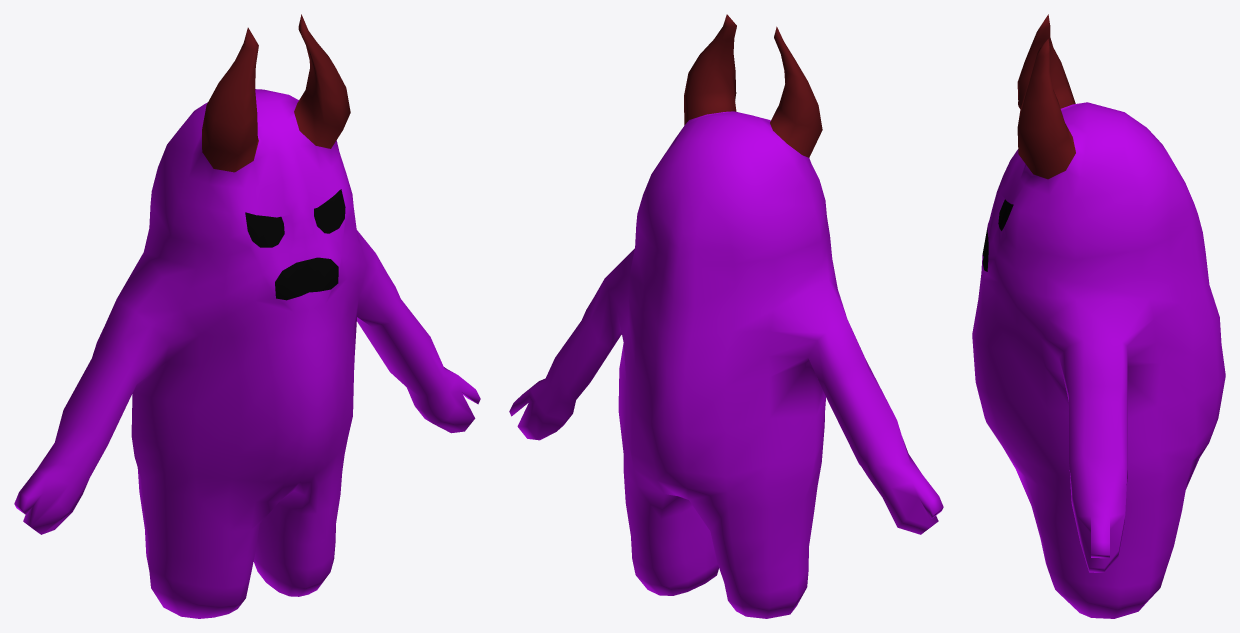
The model's file is demonio2.fbx.
3 renders of one model, left to right at view 1: azimuth 30°, elevation 25°; view 2: azimuth 150°, elevation 25°; view 3: azimuth 270°, elevation 25°, orthographic. The views are drawn at different scales.
Parts seen in each view (by area): view 1: Plane; view 2: Plane; view 3: Plane.
Part boxes in pixels (x1,y1,x2,y2): Plane: (14,14,480,618); Plane: (509,14,943,618); Plane: (972,14,1225,618).
Size of the model in its own units: 305 by 381 by 156.
